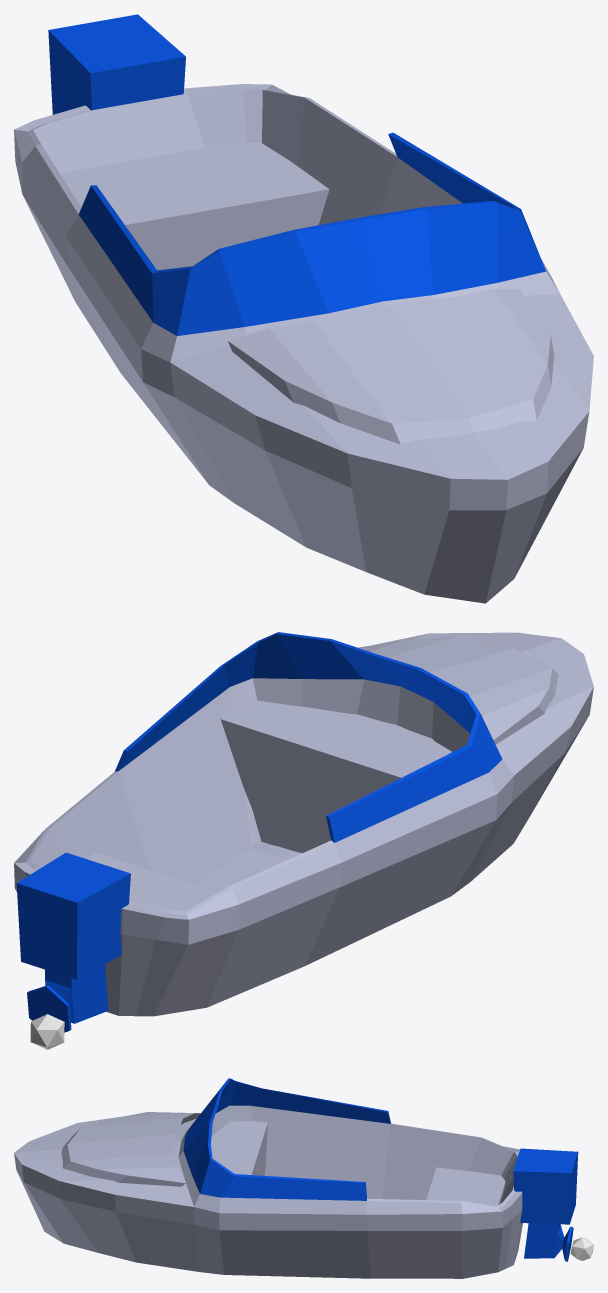
Rendered from SpeedBoat.glb.
The picture shows the model from 3 angles, top to bottom: view 1: azimuth 30°, elevation 25°; view 2: azimuth 150°, elevation 25°; view 3: azimuth 270°, elevation 25°; orthographic projection. The views are drawn at different scales.
Visible parts, largest first — view 1: SpeedBoat; view 2: SpeedBoat, Icosphere.006; view 3: SpeedBoat, Icosphere.006.
Boxes of the visible parts, bbox=[...] form: SpeedBoat: bbox=[14, 14, 593, 603]; SpeedBoat: bbox=[14, 632, 593, 1032]; Icosphere.006: bbox=[30, 1014, 64, 1049]; SpeedBoat: bbox=[14, 1078, 578, 1278]; Icosphere.006: bbox=[570, 1237, 593, 1260].
Size of the model in its own units: 2 by 1.3 by 4.96.
